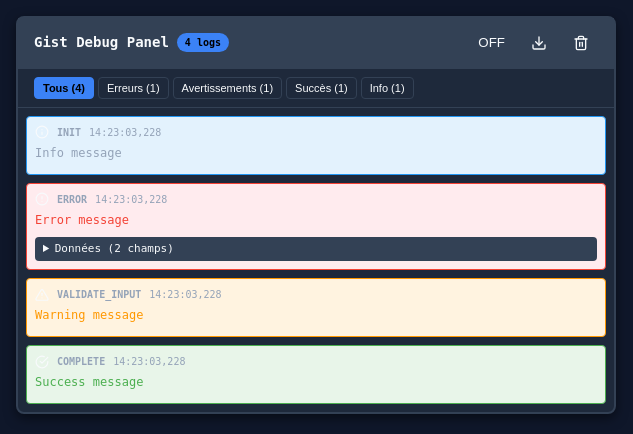
Test: GistDebugPanel › should filter logs by level
Click the button "Erreurs (1)" at (133, 88), box x1=98 y1=76 x2=169 y2=98
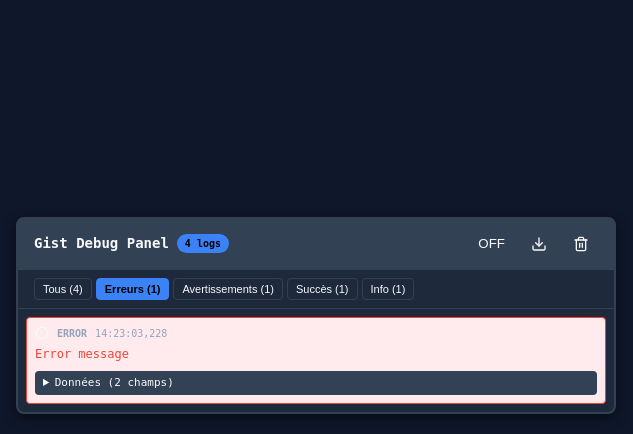
Expected: the text "Error message" is shown, x1=35 y1=346 x2=129 y2=360
Now the text "Info message" is gone
